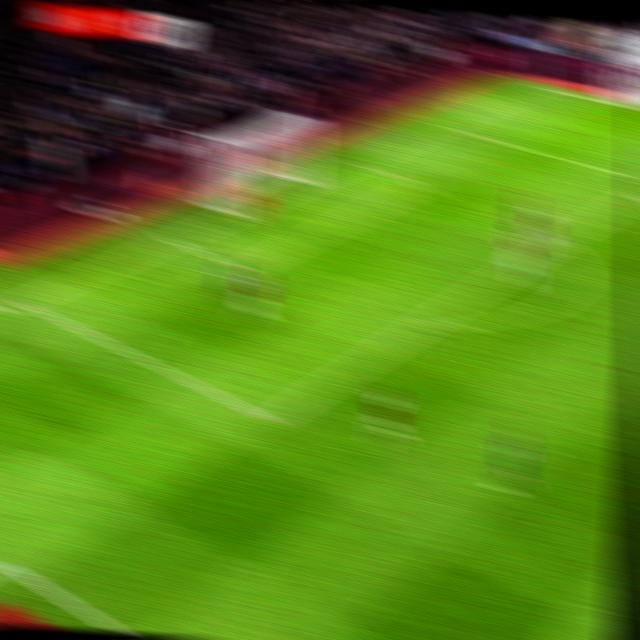bigarea_bottom_inner: (252, 404, 289, 436)
bigarea_bottom_outter: (5, 288, 38, 314)
bigarea_top_outter: (429, 115, 458, 136)
bottom_arc_area_intersection: (410, 308, 445, 337)
corner: (520, 75, 553, 95)
smallarea_bottom_inner: (226, 253, 261, 283)
smallarea_bottom_outter: (157, 227, 190, 251)
smallarea_top_inner: (405, 171, 436, 195)
smallarea_top_outter: (342, 150, 372, 173)
top_arc_area_intersection: (547, 226, 578, 251)
